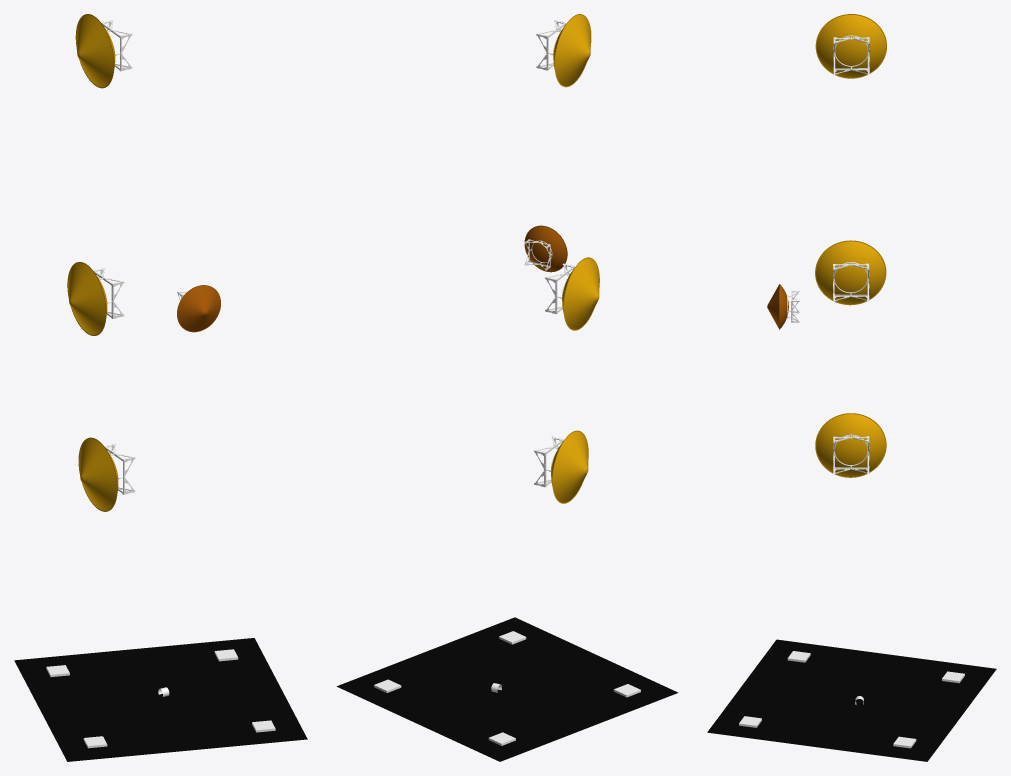
File: ang屋敷平.glb
3 renders of one model, left to right at view 1: azimuth 30°, elevation 25°; view 2: azimuth 150°, elevation 25°; view 3: azimuth 270°, elevation 25°, orthographic. The views are drawn at different scales.
Parts seen in each view (by area): view 1: group_62.001, group_41.024, group_41.032, group_41.028, group_41.036; view 2: group_62.001, group_41.028, group_41.024, group_41.032, group_41.036; view 3: group_62.001, group_41.024, group_41.032, group_41.028, group_41.036.
Part boxes in pixels (bbox=[...]): group_62.001: bbox=[14, 638, 307, 761]; group_41.024: bbox=[68, 263, 107, 334]; group_41.032: bbox=[79, 438, 118, 510]; group_41.028: bbox=[76, 15, 115, 87]; group_41.036: bbox=[177, 285, 220, 331]; group_62.001: bbox=[336, 617, 678, 761]; group_41.028: bbox=[553, 15, 590, 86]; group_41.024: bbox=[562, 258, 599, 329]; group_41.032: bbox=[551, 431, 588, 502]; group_41.036: bbox=[525, 226, 566, 271]; group_62.001: bbox=[707, 639, 996, 761]; group_41.024: bbox=[816, 241, 885, 304]; group_41.032: bbox=[816, 414, 885, 476]; group_41.028: bbox=[816, 15, 885, 77]; group_41.036: bbox=[767, 284, 788, 329].
Bounding box in the file's own units: 12.54 × 31.54 × 12.54.
